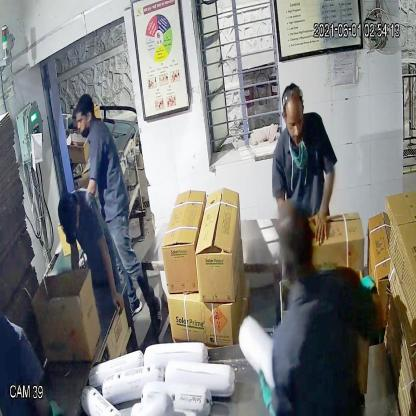no_goggles: (279, 110, 306, 135)
